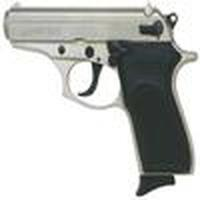gun: (3, 4, 191, 190)
